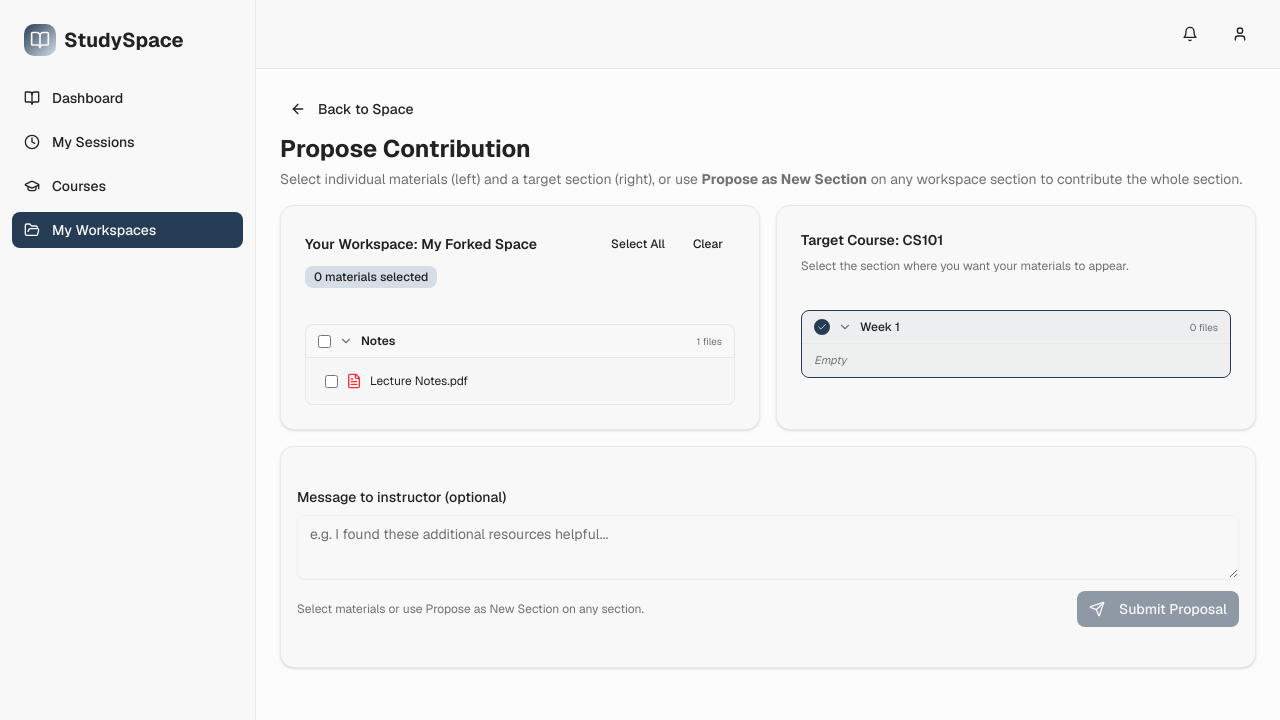
Test: ProposalPage — FR-02 Merge Proposal Submission › selecting a material enables the submit button (target section pre-selected)
Check: the text "Lecture Notes.pdf" is shown, box [370, 373, 468, 389]
Find the material checkbox specifically
Click the checkbox labelled "Lecture Notes.pdf": coordinates (332, 381) [325, 374, 338, 388]
(page scrolled)
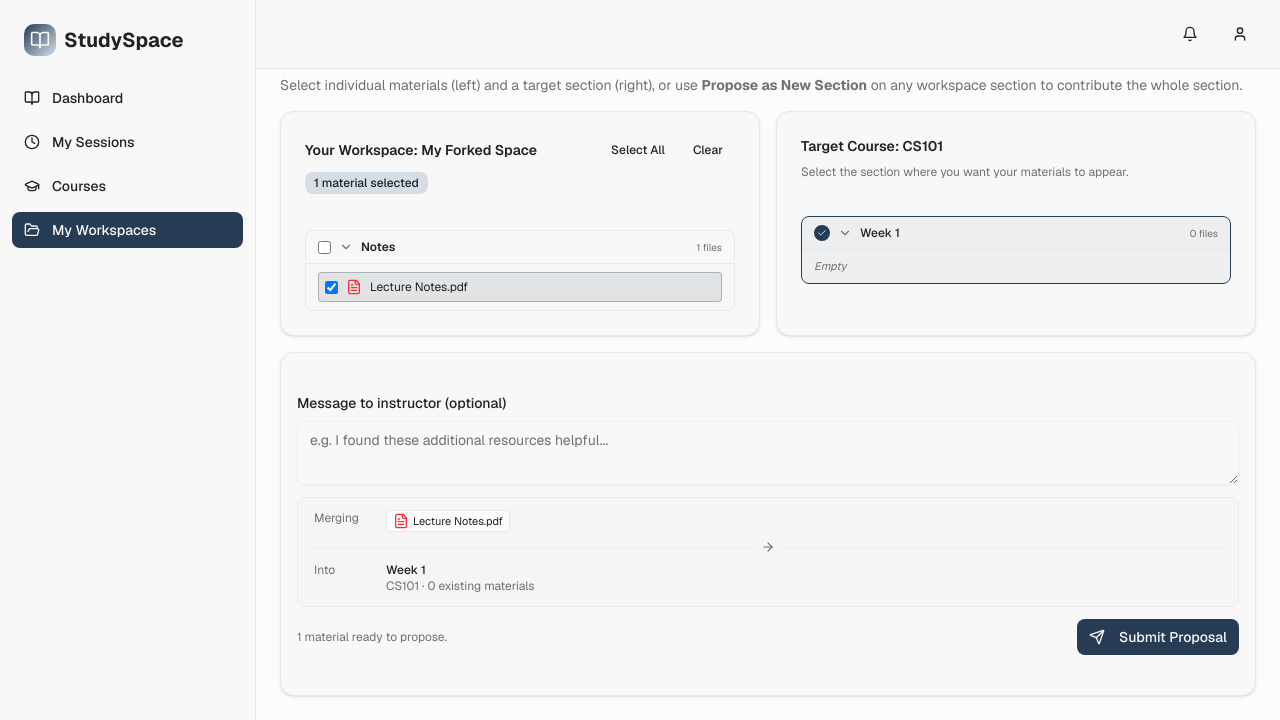
Check: the button "Submit Proposal" is enabled, box [1077, 619, 1239, 655]
